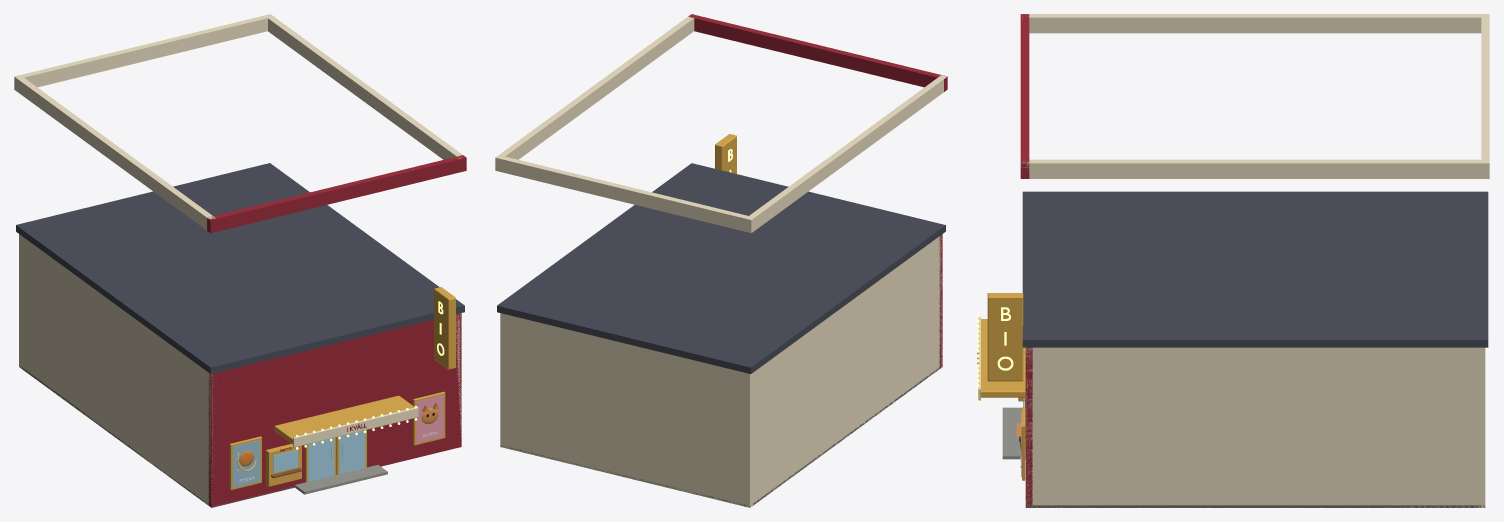
File: cinema.glb
3 views of the same model, side by side, from view 1: azimuth 30°, elevation 25°; view 2: azimuth 150°, elevation 25°; view 3: azimuth 270°, elevation 25° (orthographic). The views are drawn at different scales.
Visible parts, largest first — view 1: Cinema_Roof, side_wall_-1, front_left, front_right, parapet_f, front_over_door, parapet_b, parapet_s, parapet_s.001, canopy, sign_rim, canopy_face (+7 smaller); view 2: Cinema_Roof, back_wall, side_wall_-1, parapet_b, parapet_f, parapet_s, parapet_s.001, floor, sign_rim, side_wall_1; view 3: Cinema_Roof, side_wall_1, parapet_s.001, parapet_s, sign_rim, parapet_f, parapet_b, floor, canopy, inner_right, front_right, back_wall (+1 smaller).
Part boxes in pixels (box(x1,y1,x2,y2)): Cinema_Roof: box(16, 163, 464, 373); side_wall_-1: box(19, 235, 214, 505); front_left: box(208, 351, 305, 507); front_right: box(367, 313, 461, 467); parapet_f: box(207, 155, 466, 233); front_over_door: box(305, 336, 367, 418); parapet_b: box(14, 14, 272, 91); parapet_s: box(14, 75, 215, 230); parapet_s.001: box(266, 14, 462, 159); canopy: box(274, 395, 414, 444); sign_rim: box(434, 287, 455, 369); canopy_face: box(293, 407, 418, 447); Cinema_Roof: box(497, 163, 945, 373); back_wall: box(500, 313, 752, 507); side_wall_-1: box(745, 235, 942, 507); parapet_b: box(495, 155, 754, 233); parapet_f: box(688, 14, 947, 91); parapet_s: box(745, 75, 946, 232); parapet_s.001: box(499, 15, 694, 159); floor: box(500, 365, 942, 506); sign_rim: box(715, 134, 736, 173); side_wall_1: box(500, 313, 505, 447); Cinema_Roof: box(1022, 191, 1488, 347); side_wall_1: box(1025, 347, 1485, 507); parapet_s.001: box(1021, 159, 1489, 178); parapet_s: box(1022, 14, 1489, 33); sign_rim: box(987, 293, 1023, 381); parapet_f: box(1020, 14, 1029, 178); parapet_b: box(1481, 14, 1489, 178); floor: box(1025, 505, 1484, 507); canopy: box(980, 319, 1025, 397); inner_right: box(1165, 347, 1172, 507); front_right: box(1025, 347, 1032, 507); back_wall: box(1478, 347, 1485, 507).
Bounding box in the file's own units: 12.3 × 13.3 × 17.87.
